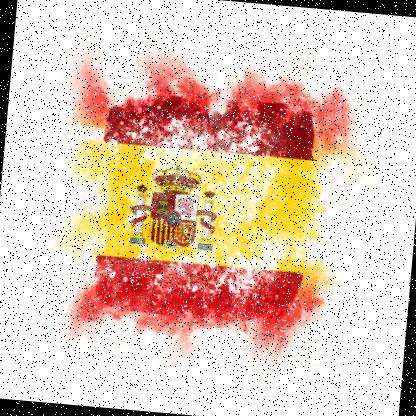es: (87, 98, 325, 357)
